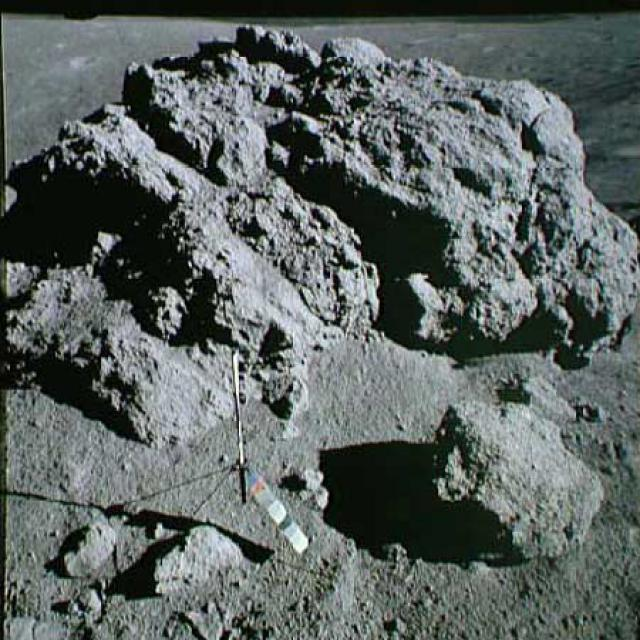artifact: (164, 335, 333, 557)
rock: (0, 17, 639, 447), (416, 374, 615, 561), (148, 521, 249, 592), (50, 518, 122, 580)
